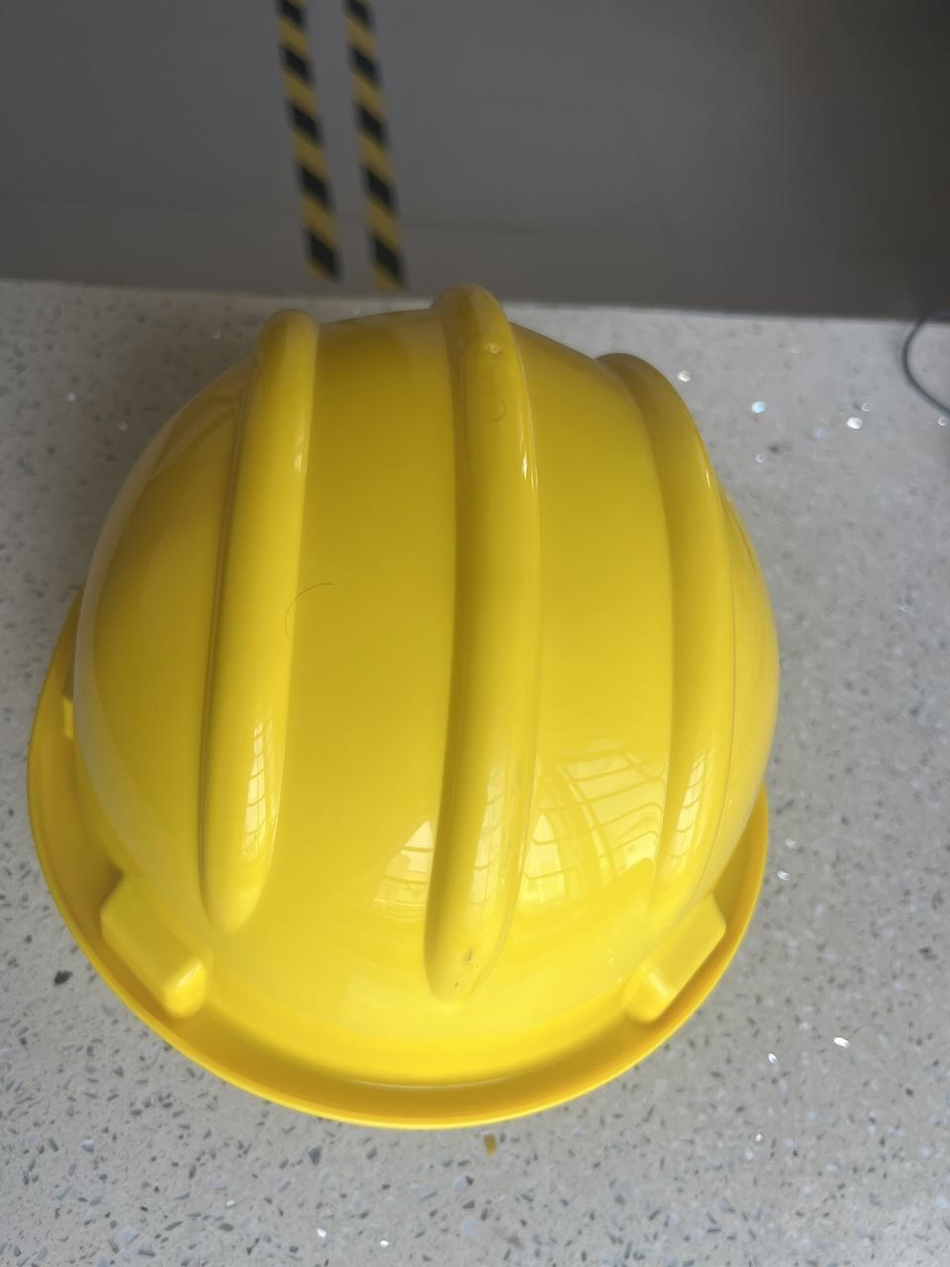Helmet: (28, 284, 781, 1130)
